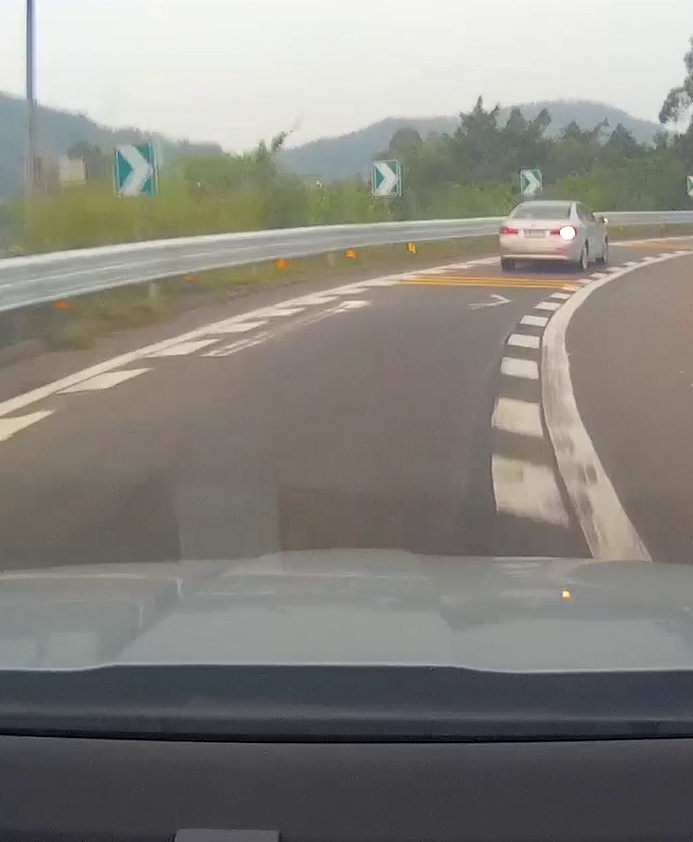L_light: (499, 224, 519, 234)
R_light: (551, 225, 577, 235)
T_light: (543, 205, 551, 209)
day-right: (498, 200, 579, 271)
